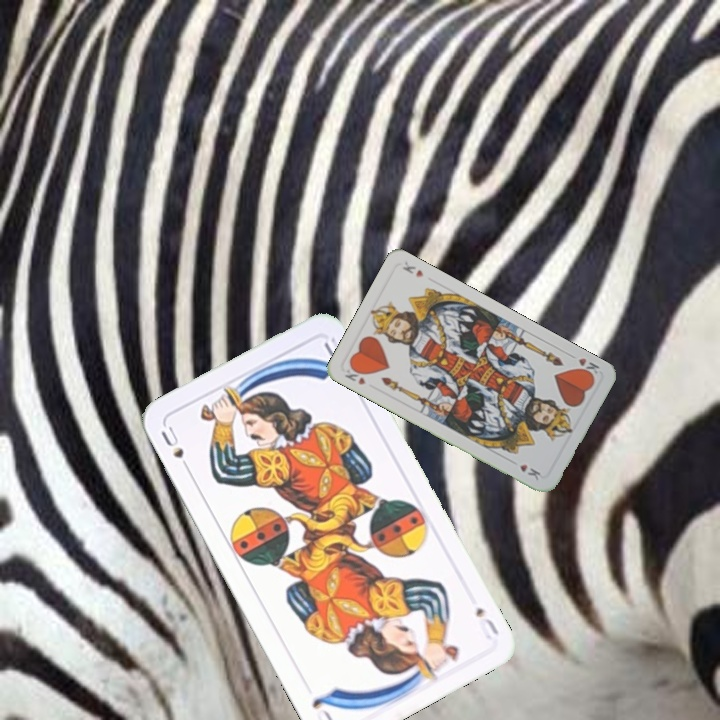HK: (565, 350, 602, 380), (341, 362, 369, 388)
SU: (156, 422, 194, 477), (471, 602, 502, 643)
